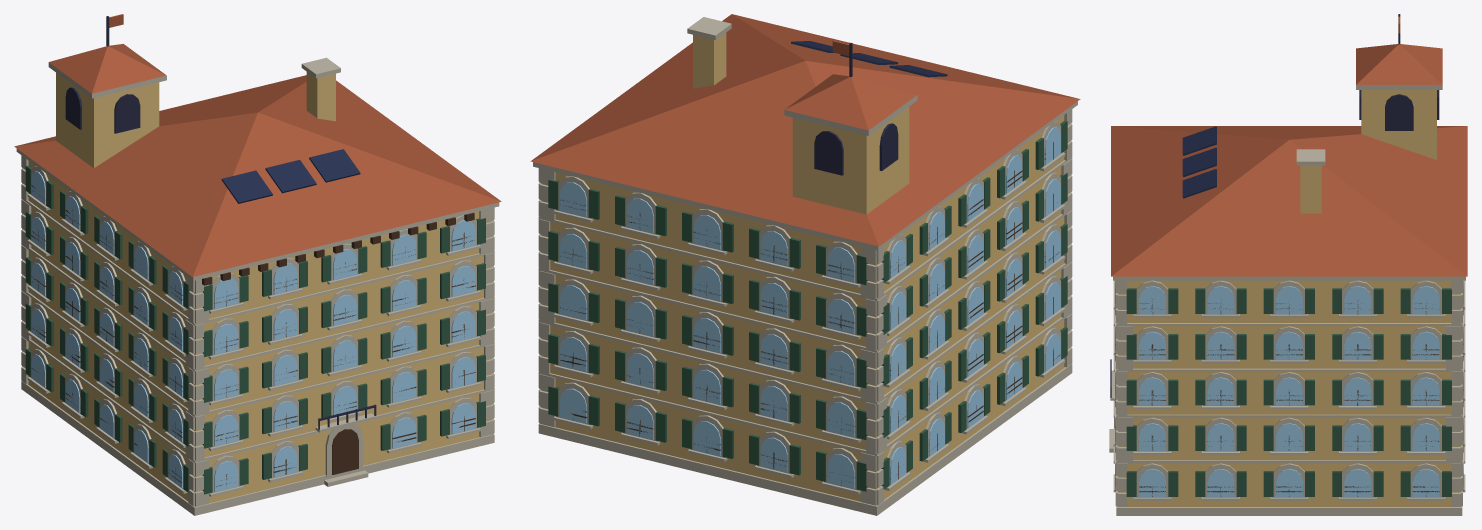
Rendered from house-2x2-5f-tuscan-a-solar.glb.
3 renders of one model, left to right at view 1: azimuth 30°, elevation 25°; view 2: azimuth 150°, elevation 25°; view 3: azimuth 270°, elevation 25°, orthographic. The views are drawn at different scales.
Visible parts, largest first — view 1: house-2x2-5f-tuscan-a-solar; view 2: house-2x2-5f-tuscan-a-solar; view 3: house-2x2-5f-tuscan-a-solar.
Part boxes in pixels (bbox=[...]): house-2x2-5f-tuscan-a-solar: bbox=[14, 14, 501, 515]; house-2x2-5f-tuscan-a-solar: bbox=[530, 14, 1080, 515]; house-2x2-5f-tuscan-a-solar: bbox=[1109, 14, 1467, 515].
Size of the model in its own units: 1.98 by 2.34 by 1.99.
Materials: 1 (1 with a texture image).
